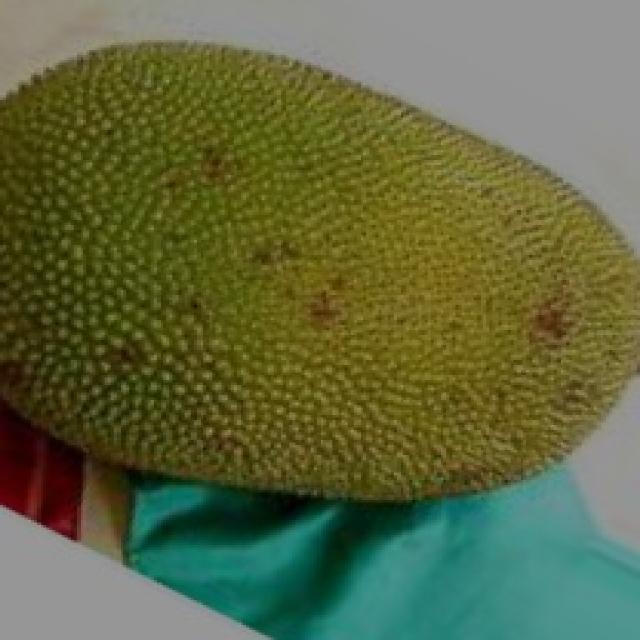Fruit: (3, 10, 422, 318), (267, 15, 640, 340)
